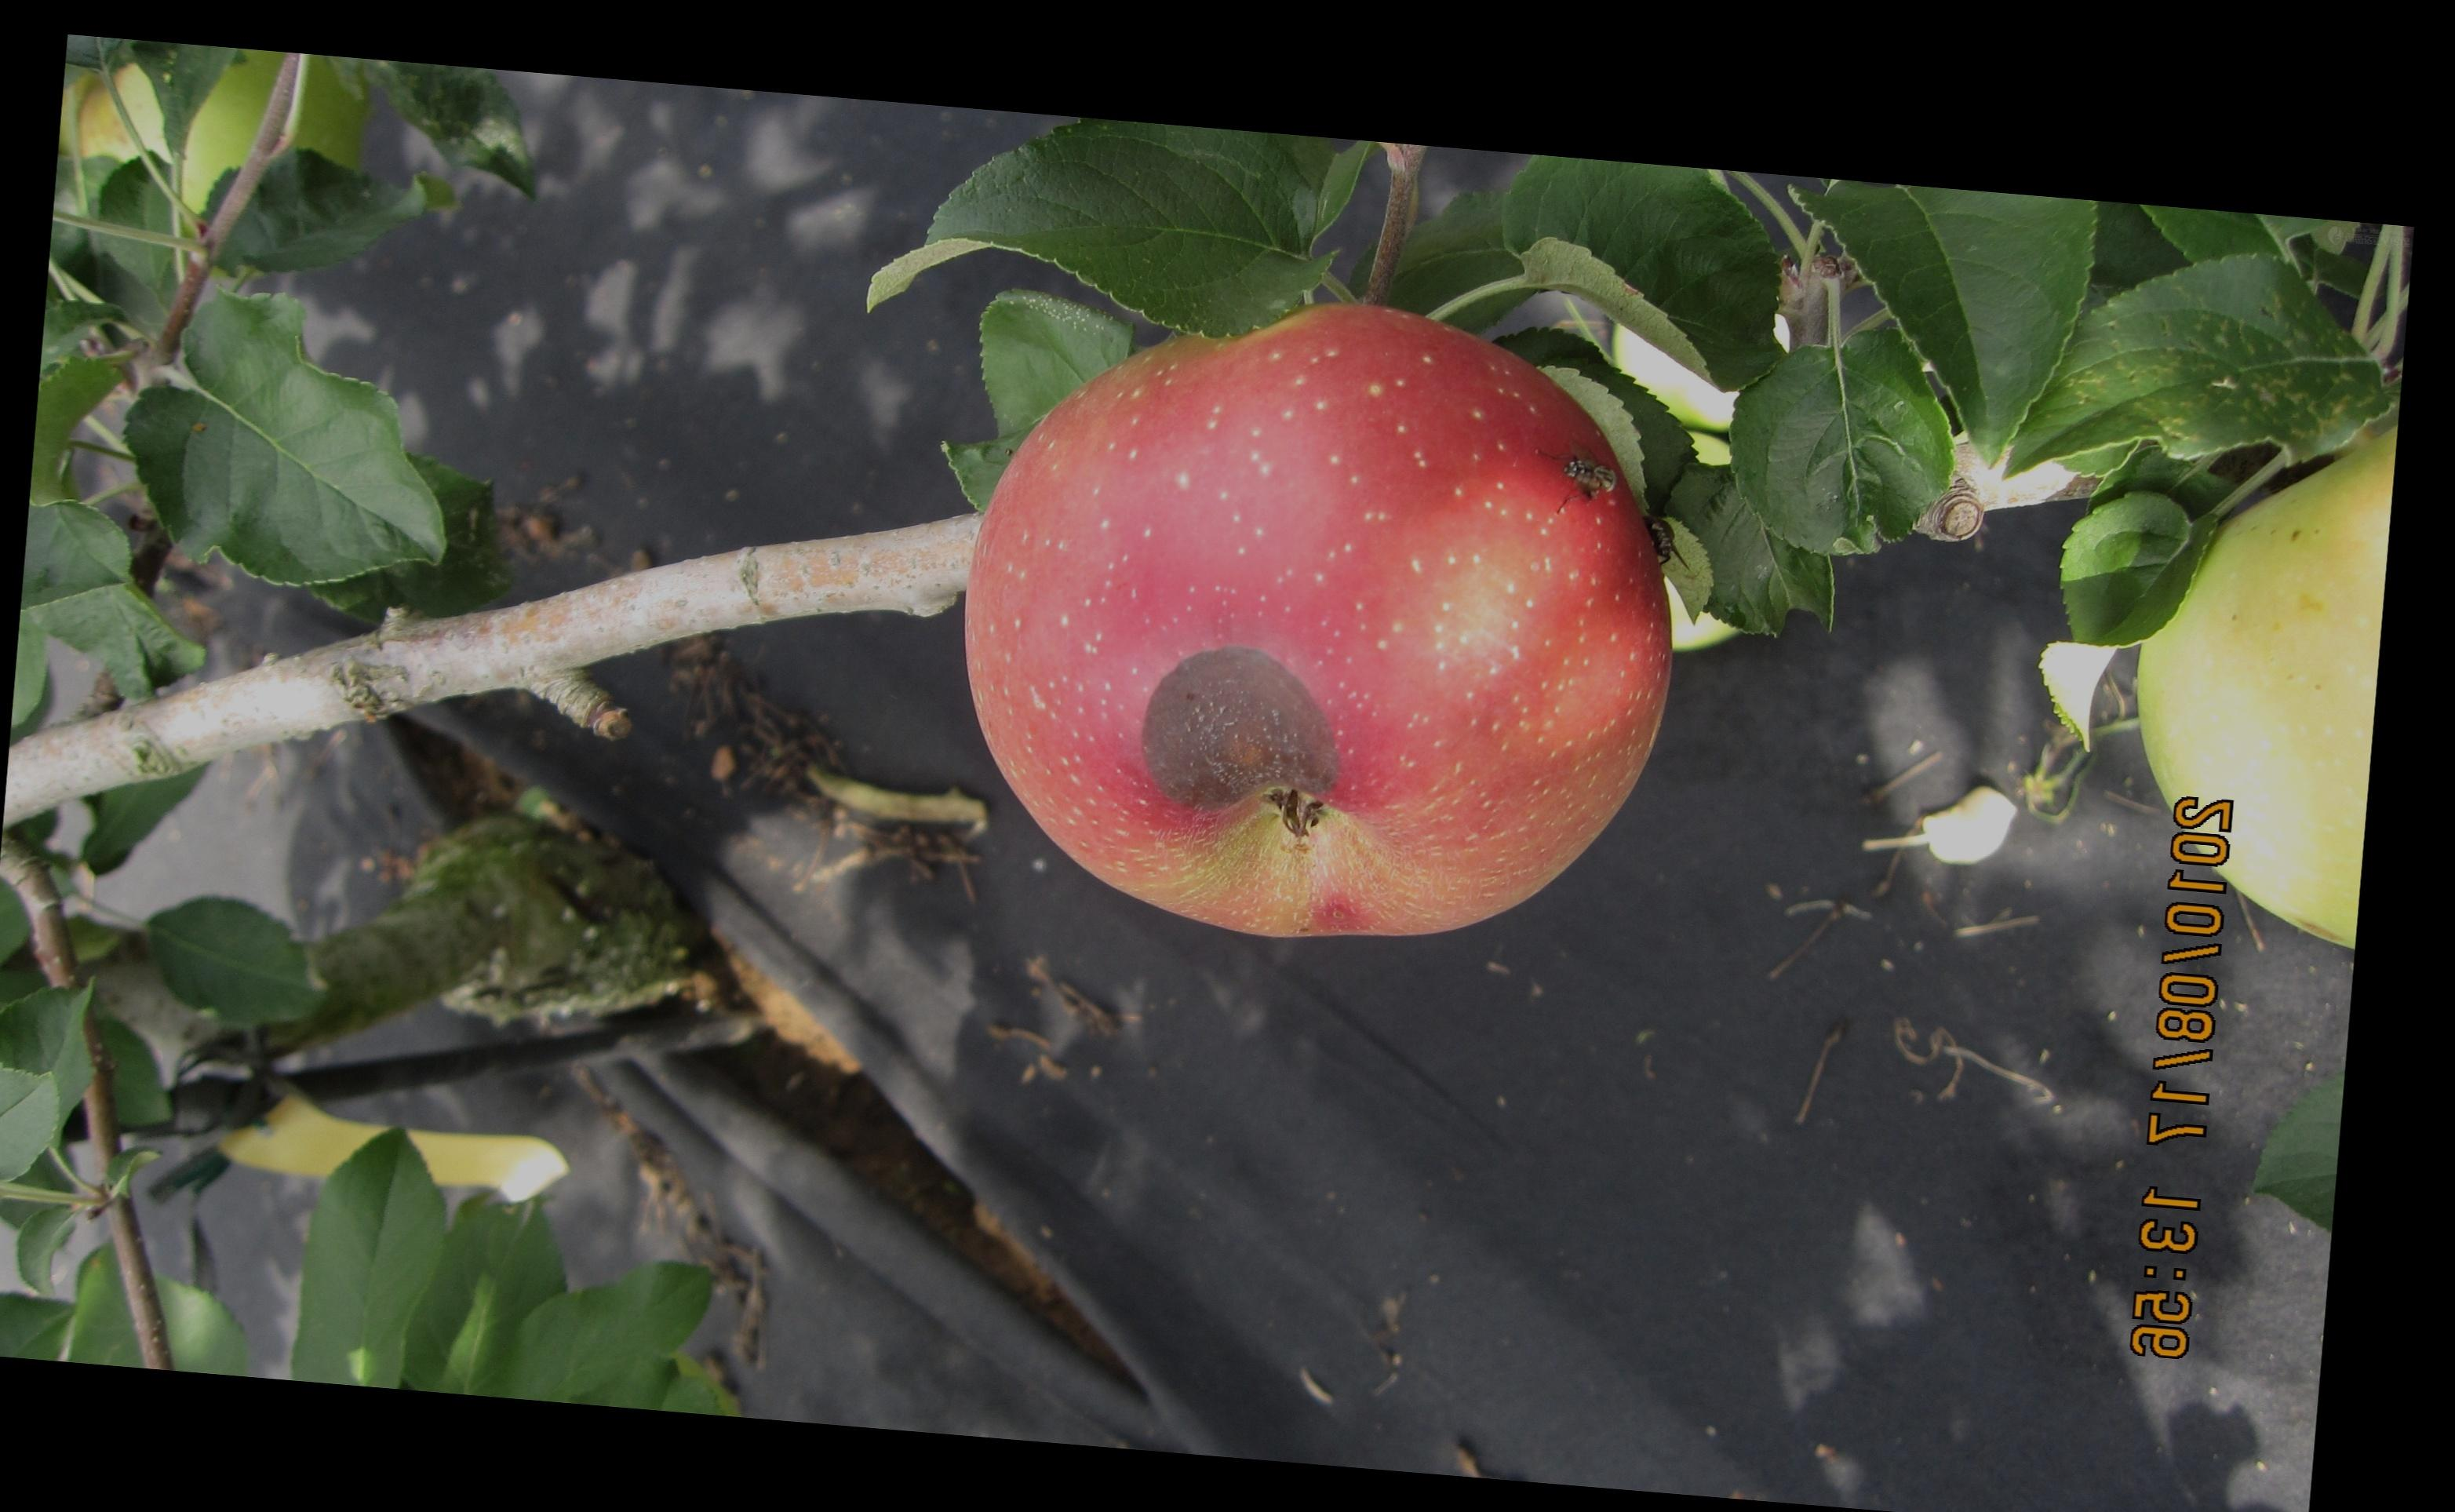rotten apple: (954, 302, 1697, 949)
